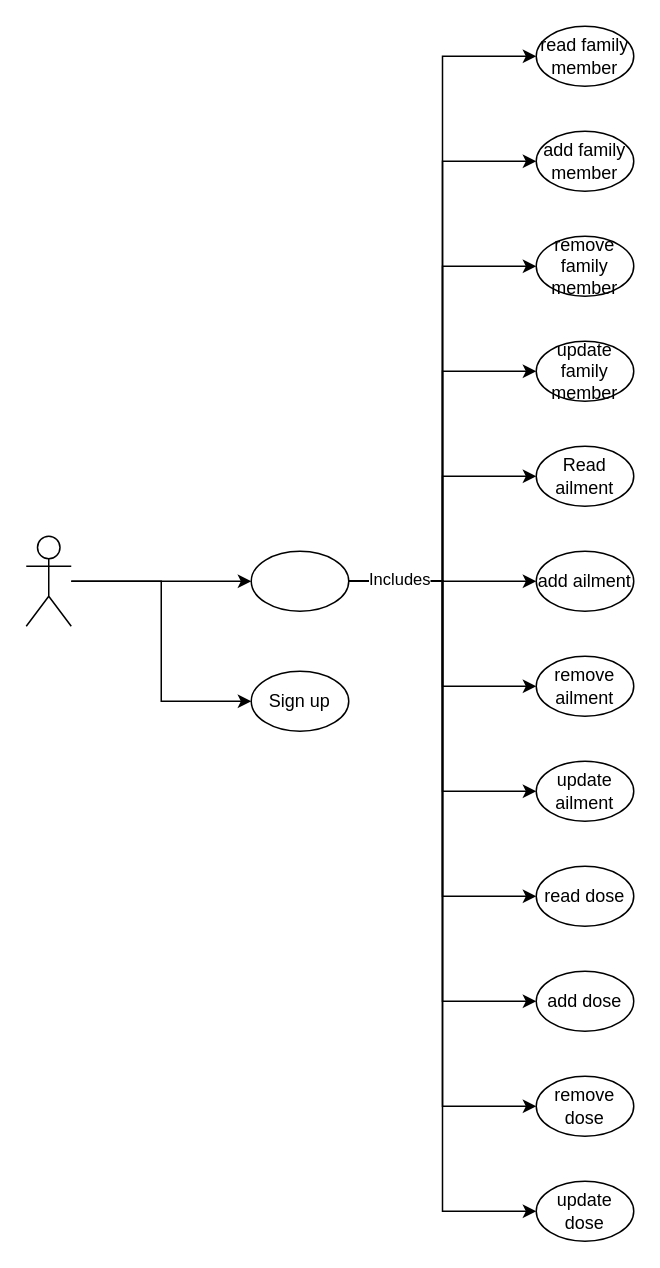
This 660x1268 diagram has some shape labels left out. Here are the shapes that lost their labels. From the top down, the box of each, then its label:
(25, 535, 71, 626): User
(250, 550, 349, 611): Authenticate
